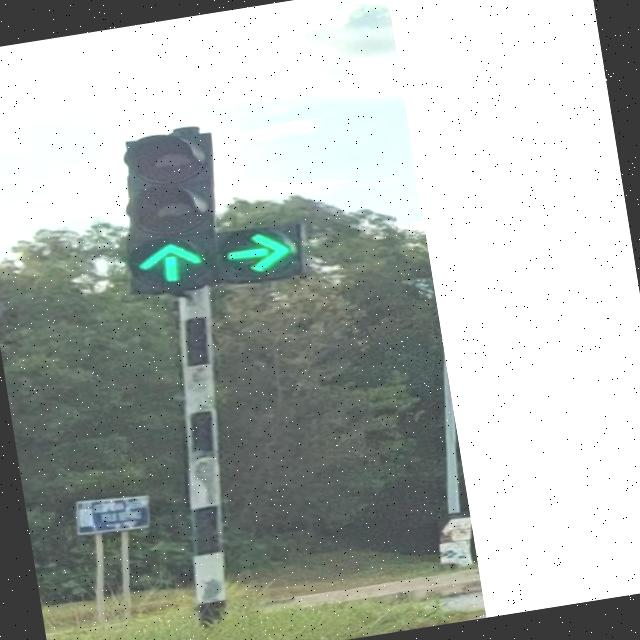green_light: (108, 125, 234, 298), (198, 117, 312, 288)
